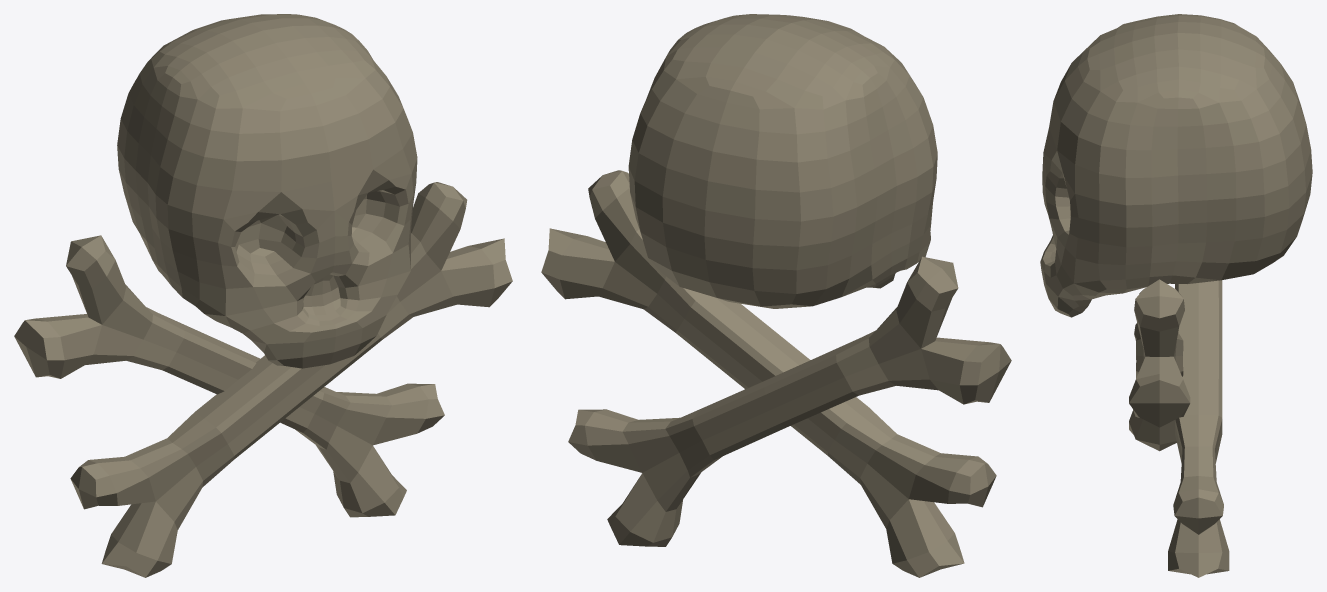
The model's file is Skull2.glb.
3 views of the same model, side by side, from view 1: azimuth 30°, elevation 25°; view 2: azimuth 150°, elevation 25°; view 3: azimuth 270°, elevation 25° (orthographic). The views are drawn at different scales.
Parts seen in each view (by area): view 1: Skull2_Cube.014; view 2: Skull2_Cube.014; view 3: Skull2_Cube.014.
Part boxes in pixels (x1,y1,x2,y2): Skull2_Cube.014: [14, 14, 512, 577]; Skull2_Cube.014: [541, 14, 1011, 577]; Skull2_Cube.014: [1040, 14, 1312, 577].
Size of the model in its own units: 0.858 by 0.9274 by 0.4708.
